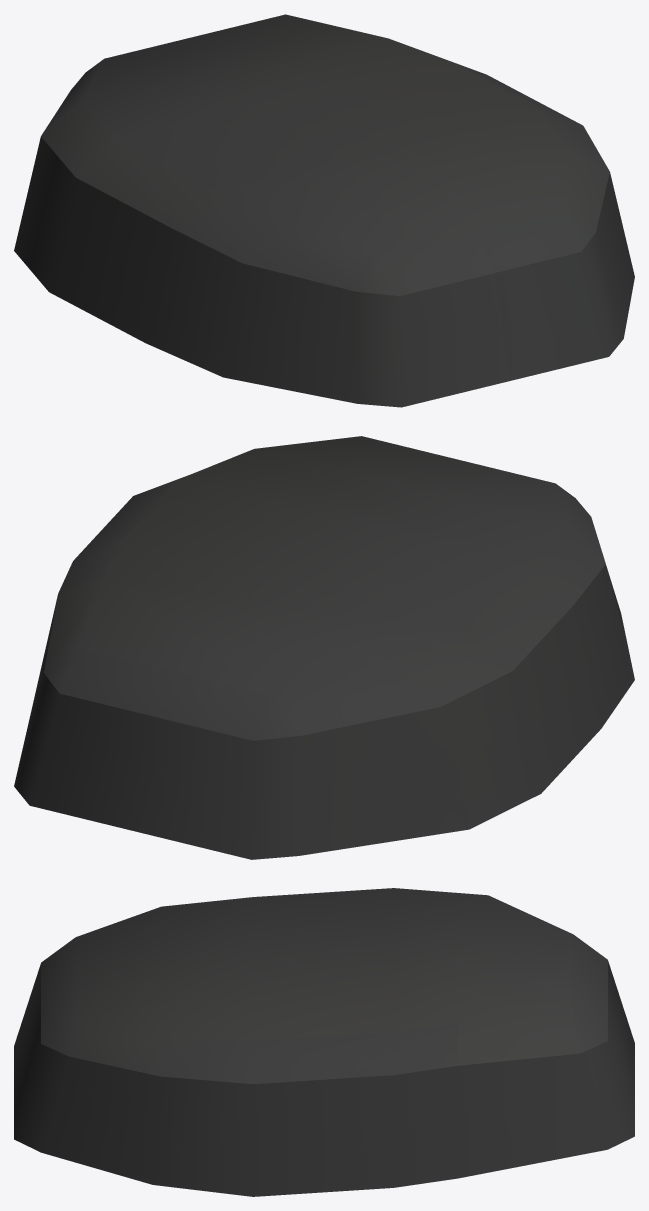
Rendered from Brick_2_2.obj.
3 views of the same model, one above another, from view 1: azimuth 30°, elevation 25°; view 2: azimuth 150°, elevation 25°; view 3: azimuth 270°, elevation 25° (orthographic). The views are drawn at different scales.
Parts seen in each view (by area): view 1: Brick_2_2; view 2: Brick_2_2; view 3: Brick_2_2.
Boxes of the visible parts, left/top/right/bottom form: Brick_2_2: left=14, top=14, right=634, bottom=407; Brick_2_2: left=14, top=436, right=634, bottom=859; Brick_2_2: left=14, top=888, right=634, bottom=1196.
Bounding box in the file's own units: 0.2486 × 0.0674 × 0.3014.
